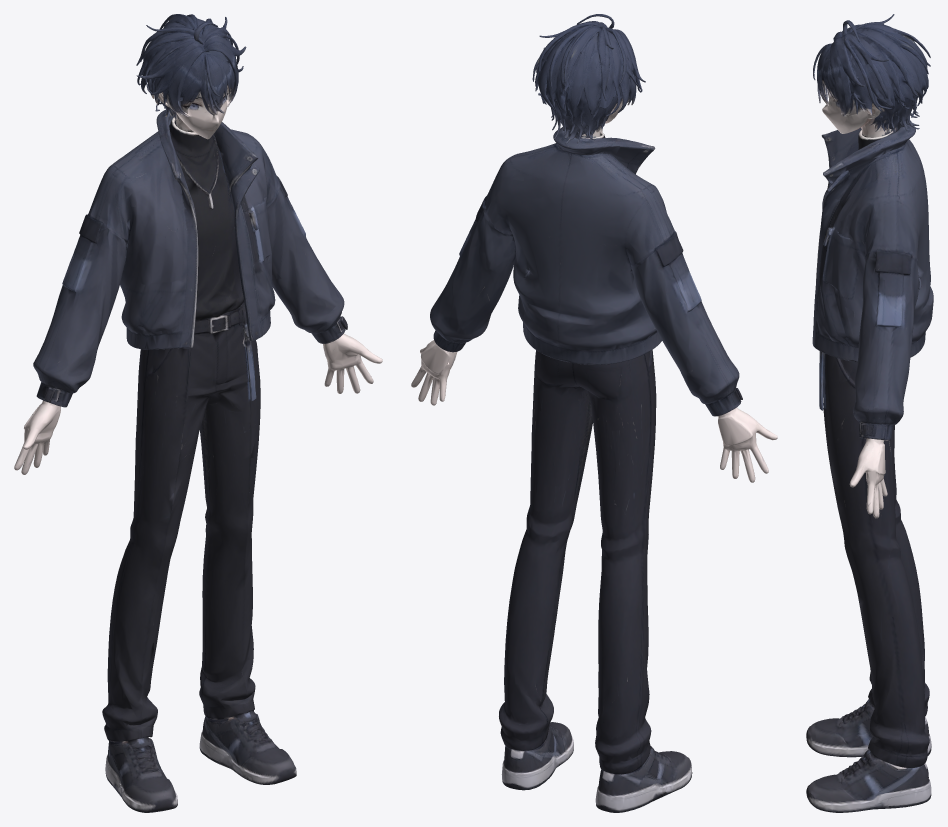
Rendered from gu_yuan.glb.
The picture shows the model from 3 angles, left to right: view 1: azimuth 30°, elevation 25°; view 2: azimuth 150°, elevation 25°; view 3: azimuth 270°, elevation 25°; orthographic projection.
Parts seen in each view (by area): view 1: Mesh_0; view 2: Mesh_0; view 3: Mesh_0.
Boxes of the visible parts, x1=… form: Mesh_0: x1=14, y1=14, x2=382, y2=812; Mesh_0: x1=411, y1=14, x2=777, y2=812; Mesh_0: x1=806, y1=14, x2=933, y2=812.
Bounding box in the file's own units: 0.8143 × 1.65 × 0.2531.
Materials: 1 (1 with a texture image).
